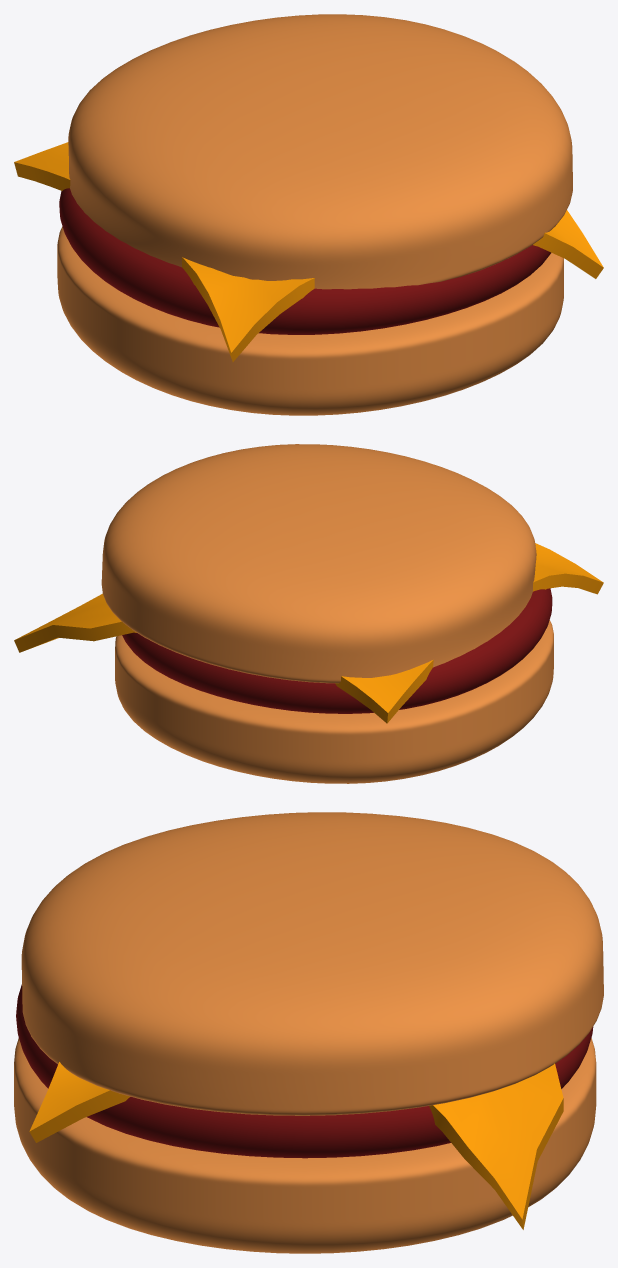
The model's file is burger.glb.
3 renders of one model, top to bottom at view 1: azimuth 30°, elevation 25°; view 2: azimuth 150°, elevation 25°; view 3: azimuth 270°, elevation 25°, orthographic. The views are drawn at different scales.
Visible parts, largest first — view 1: Cube.002, Cube, Cube.001, Plane; view 2: Cube.002, Cube, Cube.001, Plane; view 3: Cube.002, Cube, Cube.001, Plane.
Boxes of the visible parts, left/top/right/bottom form: Cube.002: left=68, top=14, right=572, bottom=289; Cube: left=57, top=226, right=563, bottom=415; Cube.001: left=59, top=188, right=550, bottom=334; Plane: left=14, top=142, right=603, bottom=361; Cube.002: left=101, top=444, right=536, bottom=683; Cube: left=115, top=620, right=553, bottom=783; Cube.001: left=122, top=588, right=552, bottom=713; Plane: left=14, top=543, right=603, bottom=723; Cube.002: left=21, top=812, right=603, bottom=1115; Cube: left=14, top=1038, right=596, bottom=1253; Cube.001: left=16, top=984, right=593, bottom=1158; Plane: left=29, top=1062, right=563, bottom=1229.
Size of the model in its own units: 10.57 by 5.07 by 9.35.
